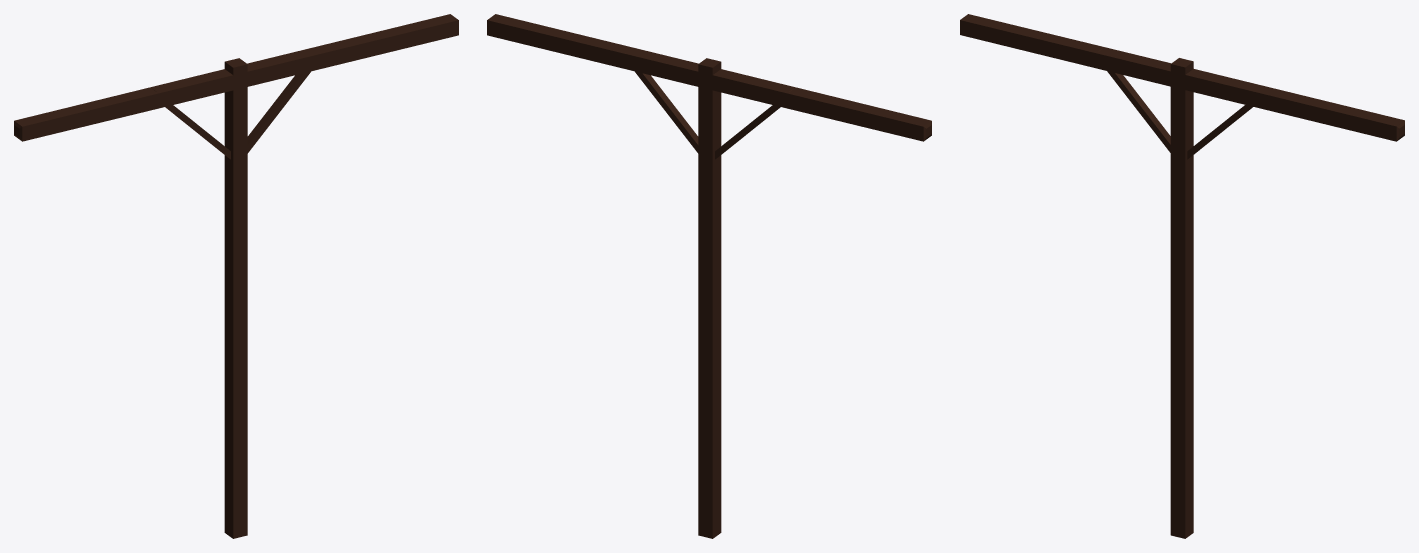
Rendered from Renfort2.fbx.
3 views of the same model, side by side, from view 1: azimuth 30°, elevation 25°; view 2: azimuth 150°, elevation 25°; view 3: azimuth 330°, elevation 25° (orthographic).
Visible parts, largest first — view 1: Cube.005; view 2: Cube.005; view 3: Cube.005.
Part boxes in pixels (<box>): Cube.005: <box>14,14,458,538</box>; Cube.005: <box>487,14,931,538</box>; Cube.005: <box>960,14,1404,538</box>.
Size of the model in its own units: 1596 by 1637 by 52.94.
